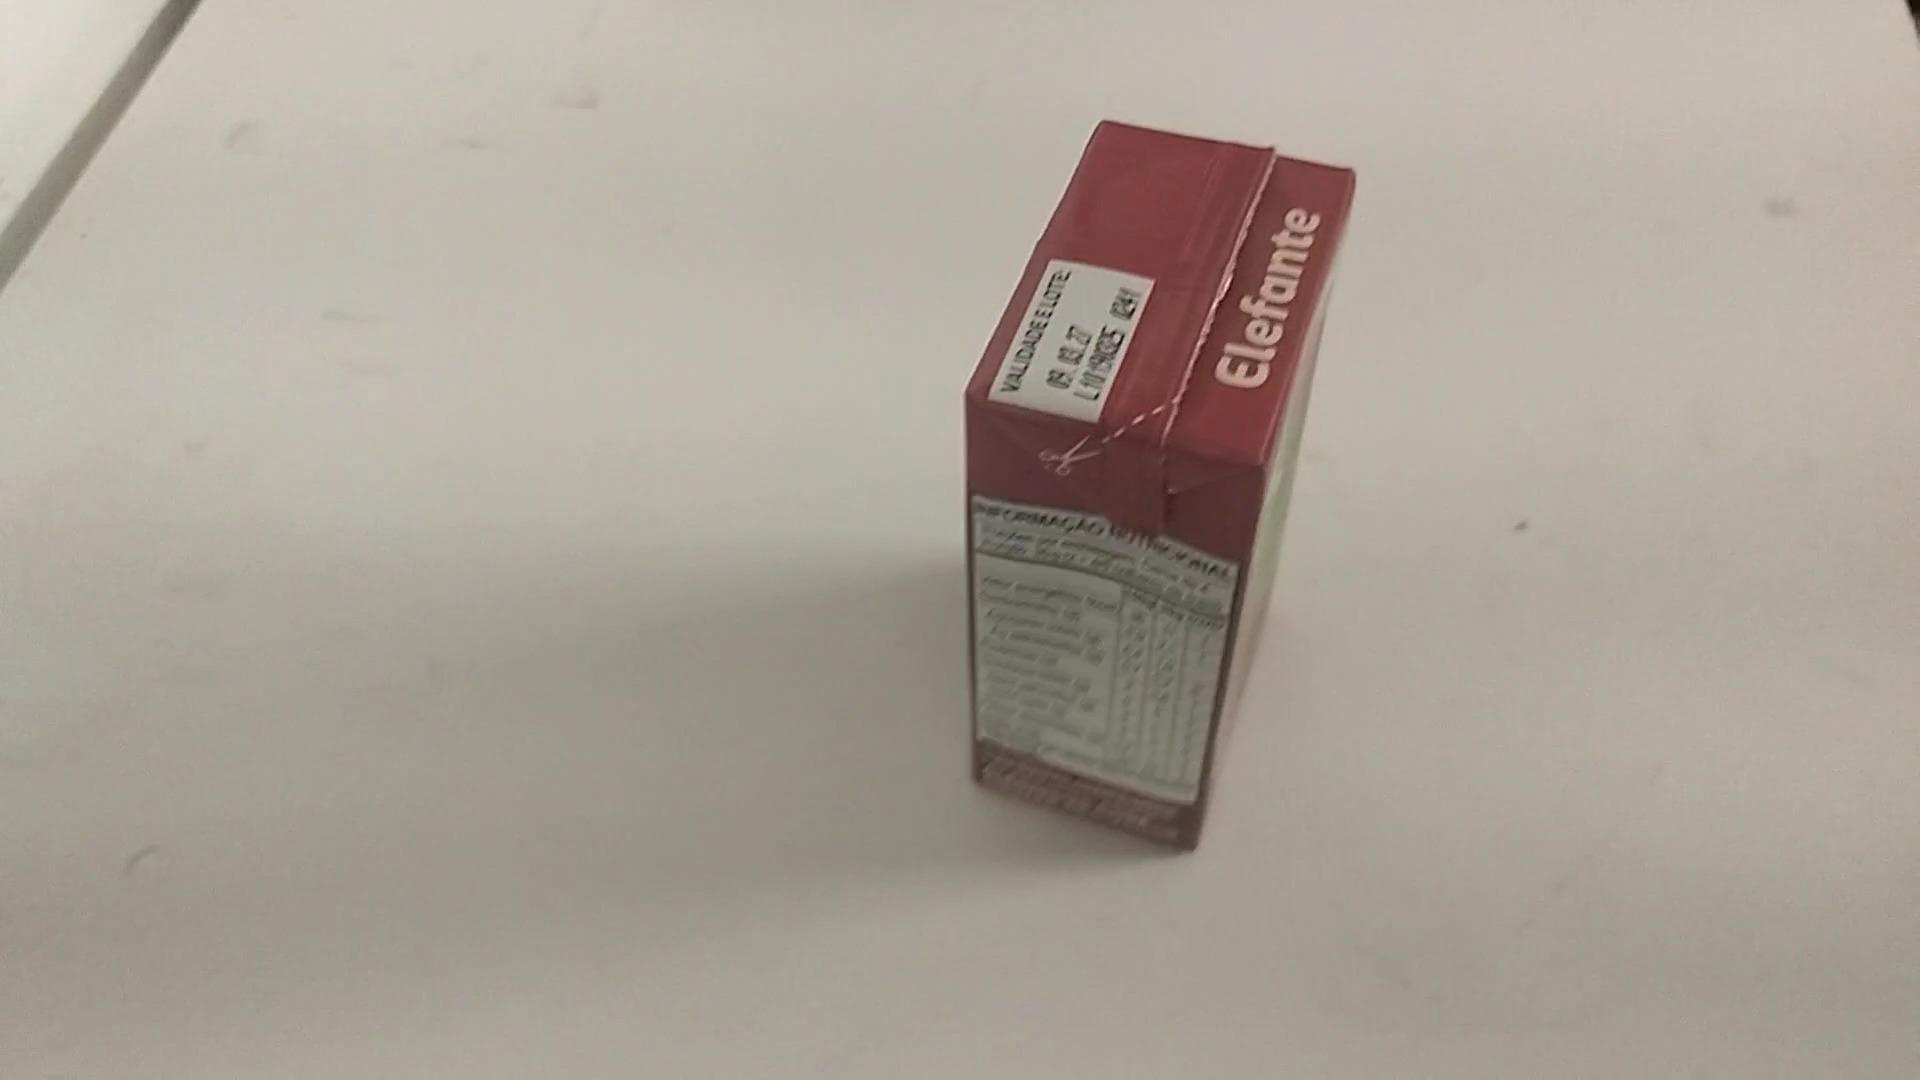tomate: (943, 109, 1364, 858)
